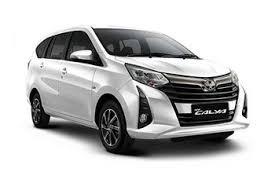mobil: (27, 22, 256, 163)
